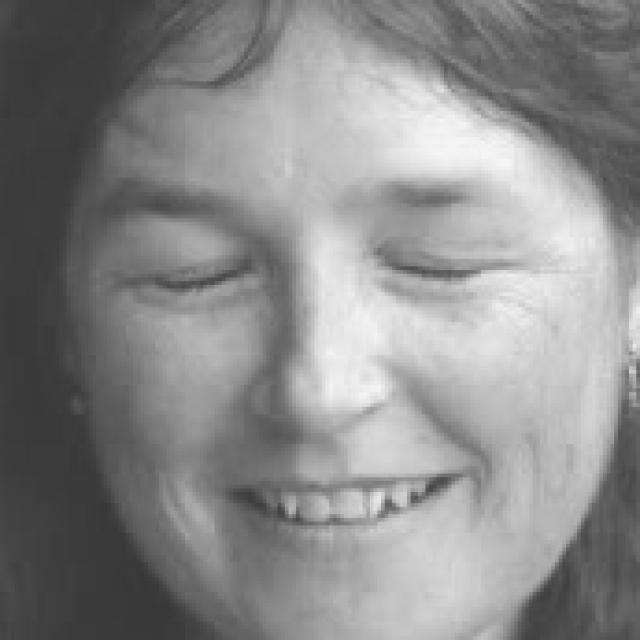real: (62, 18, 628, 608), (120, 188, 549, 310)
